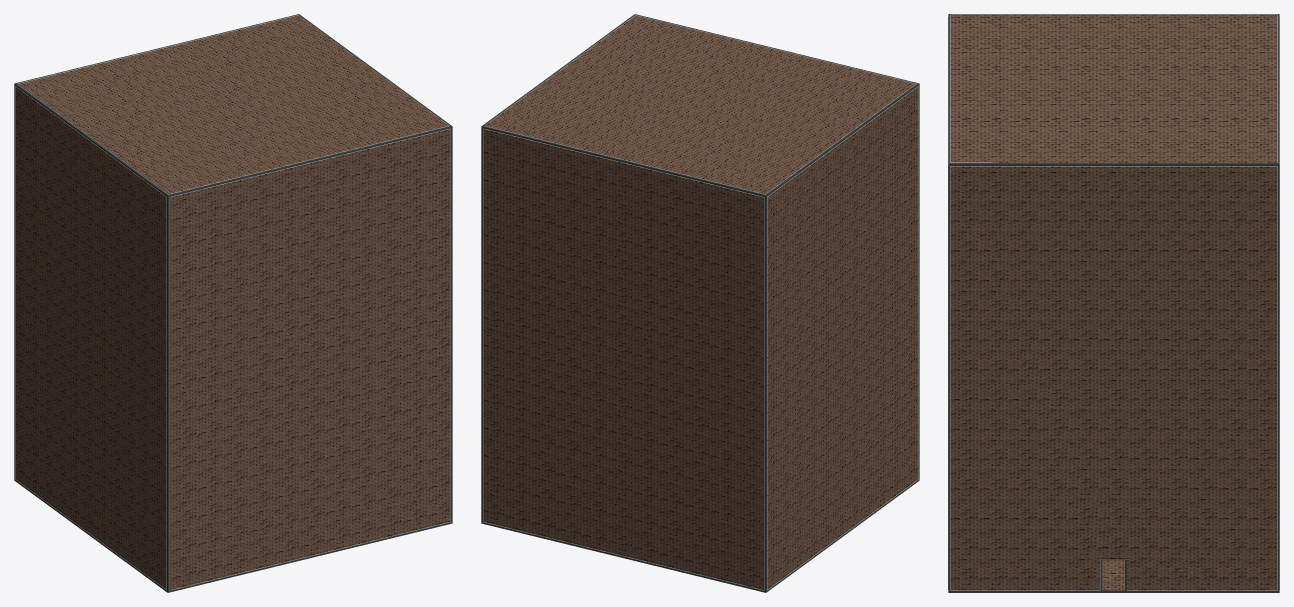
File: building_2.fbx
3 views of the same model, side by side, from view 1: azimuth 30°, elevation 25°; view 2: azimuth 150°, elevation 25°; view 3: azimuth 270°, elevation 25° (orthographic). The views are drawn at different scales.
Parts seen in each view (by area): view 1: buidling_2.003; view 2: buidling_2.003; view 3: buidling_2.003.
Boxes of the visible parts, x1,y1,x2,y2 form: buidling_2.003: (14,14,452,592); buidling_2.003: (481,14,919,592); buidling_2.003: (948,14,1279,592).
Size of the model in its own units: 3004 by 4004 by 2804.
